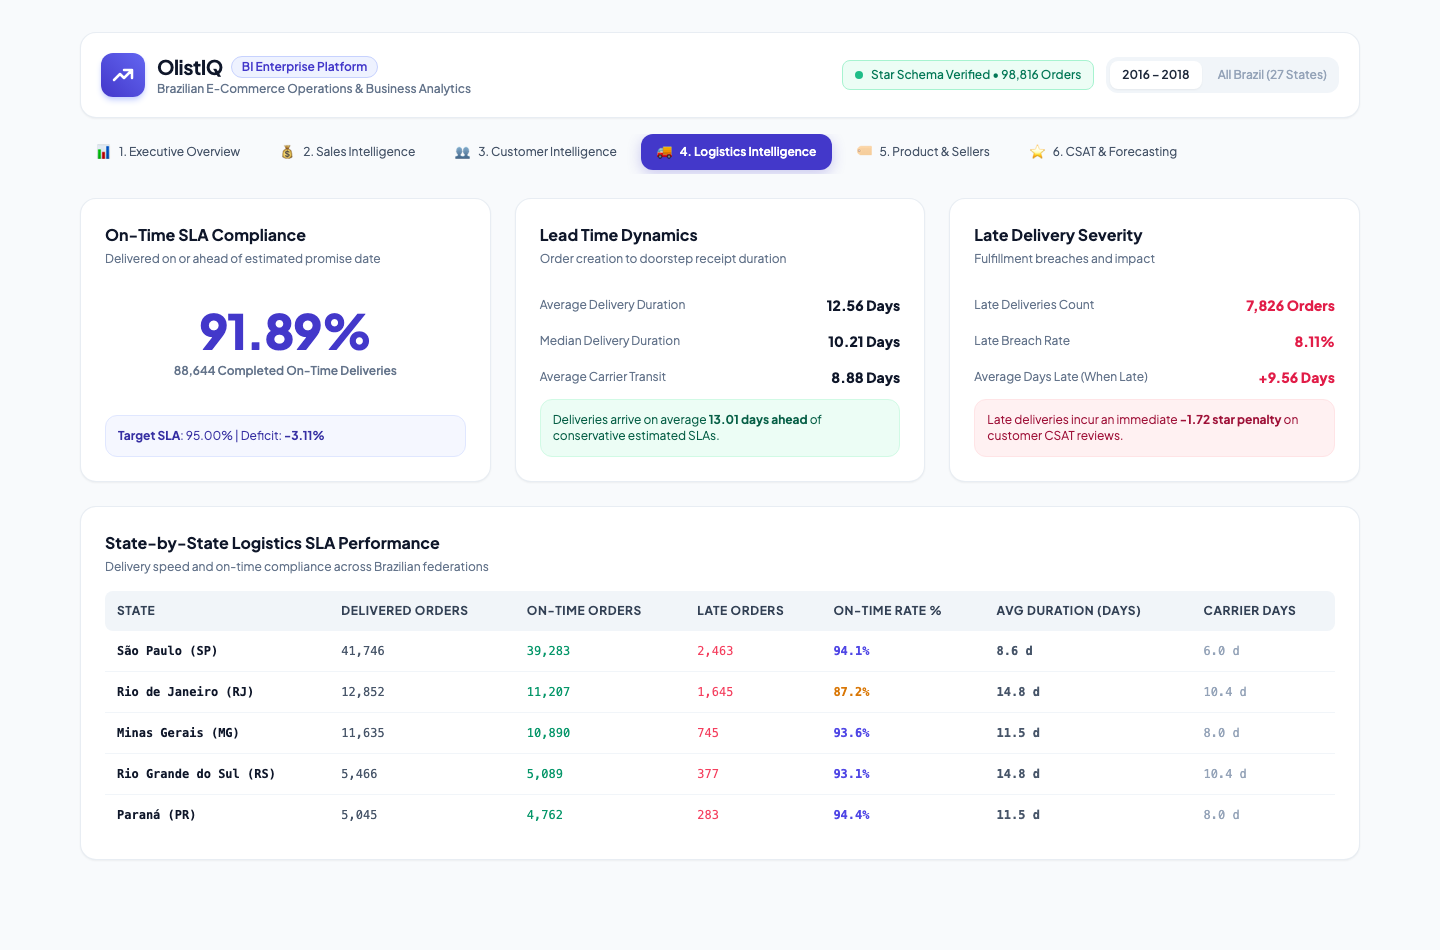

Layout of this report page (visuals, bound fields, positions):
{"tool":"tableau","page":{"name":"4_Logistics_Intelligence","canvas":[1400,900],"ordinal":3},"visuals":[{"type":"title","box":[0,0,1400,72]},{"type":"widget","title":"Delivery_SLA_State_Map","box":[0,90,1400,792]}]}

Visuals, with their boxes in screenshot pixels (x1, y1, x2, y2), scaled from the page's 1400x900 canvas onto the 1440x950 screenshot:
title: rect(0, 0, 1439, 76)
"Delivery_SLA_State_Map" widget: rect(0, 95, 1439, 931)
